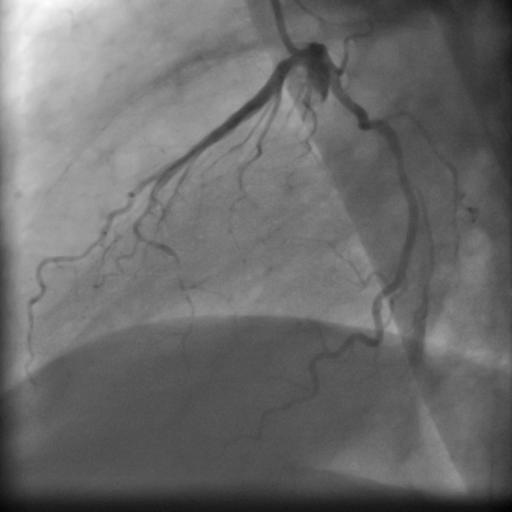Stenosis: (360, 105, 379, 138)
